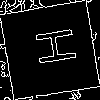H: (24, 25, 77, 69)
